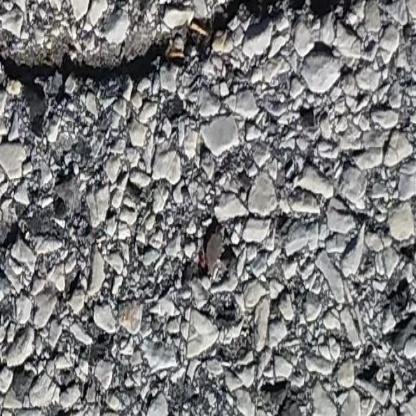Cracks: (0, 0, 358, 135)
